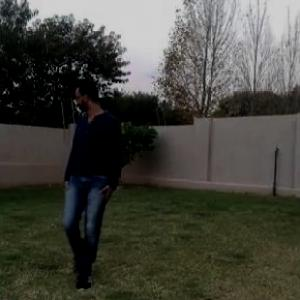follow: (62, 77, 113, 277)
